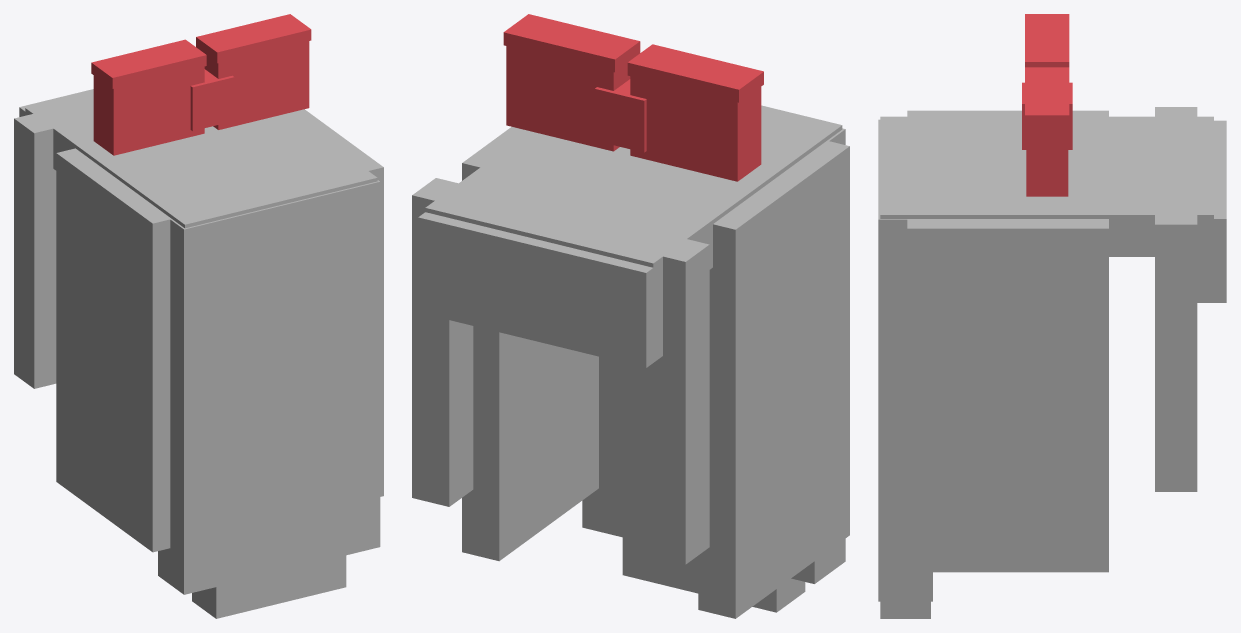
The model's file is cabelo_longo_laco.glb.
The picture shows the model from 3 angles, left to right: view 1: azimuth 30°, elevation 25°; view 2: azimuth 150°, elevation 25°; view 3: azimuth 270°, elevation 25°; orthographic projection. The views are drawn at different scales.
Visible parts, largest first — view 1: cabelo_longo_laco; view 2: cabelo_longo_laco; view 3: cabelo_longo_laco.
Part boxes in pixels (x1,y1,x2,y2): cabelo_longo_laco: (14,14,383,618); cabelo_longo_laco: (412,14,849,618); cabelo_longo_laco: (878,14,1226,618).
Size of the model in its own units: 0.662 by 1.36 by 0.827.
